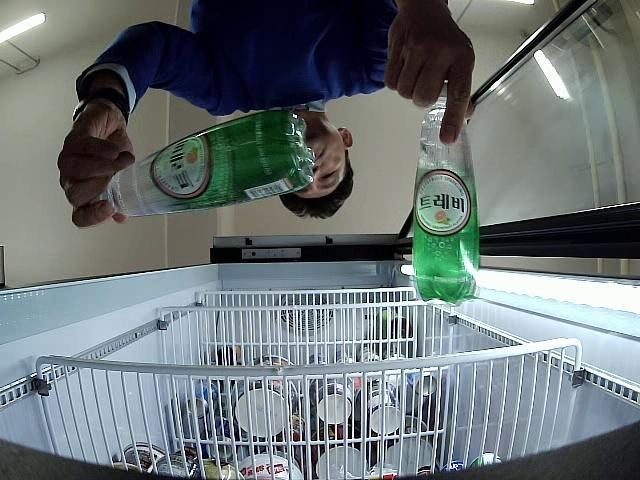18_trevi: (106, 110, 315, 218), (412, 85, 481, 308)
